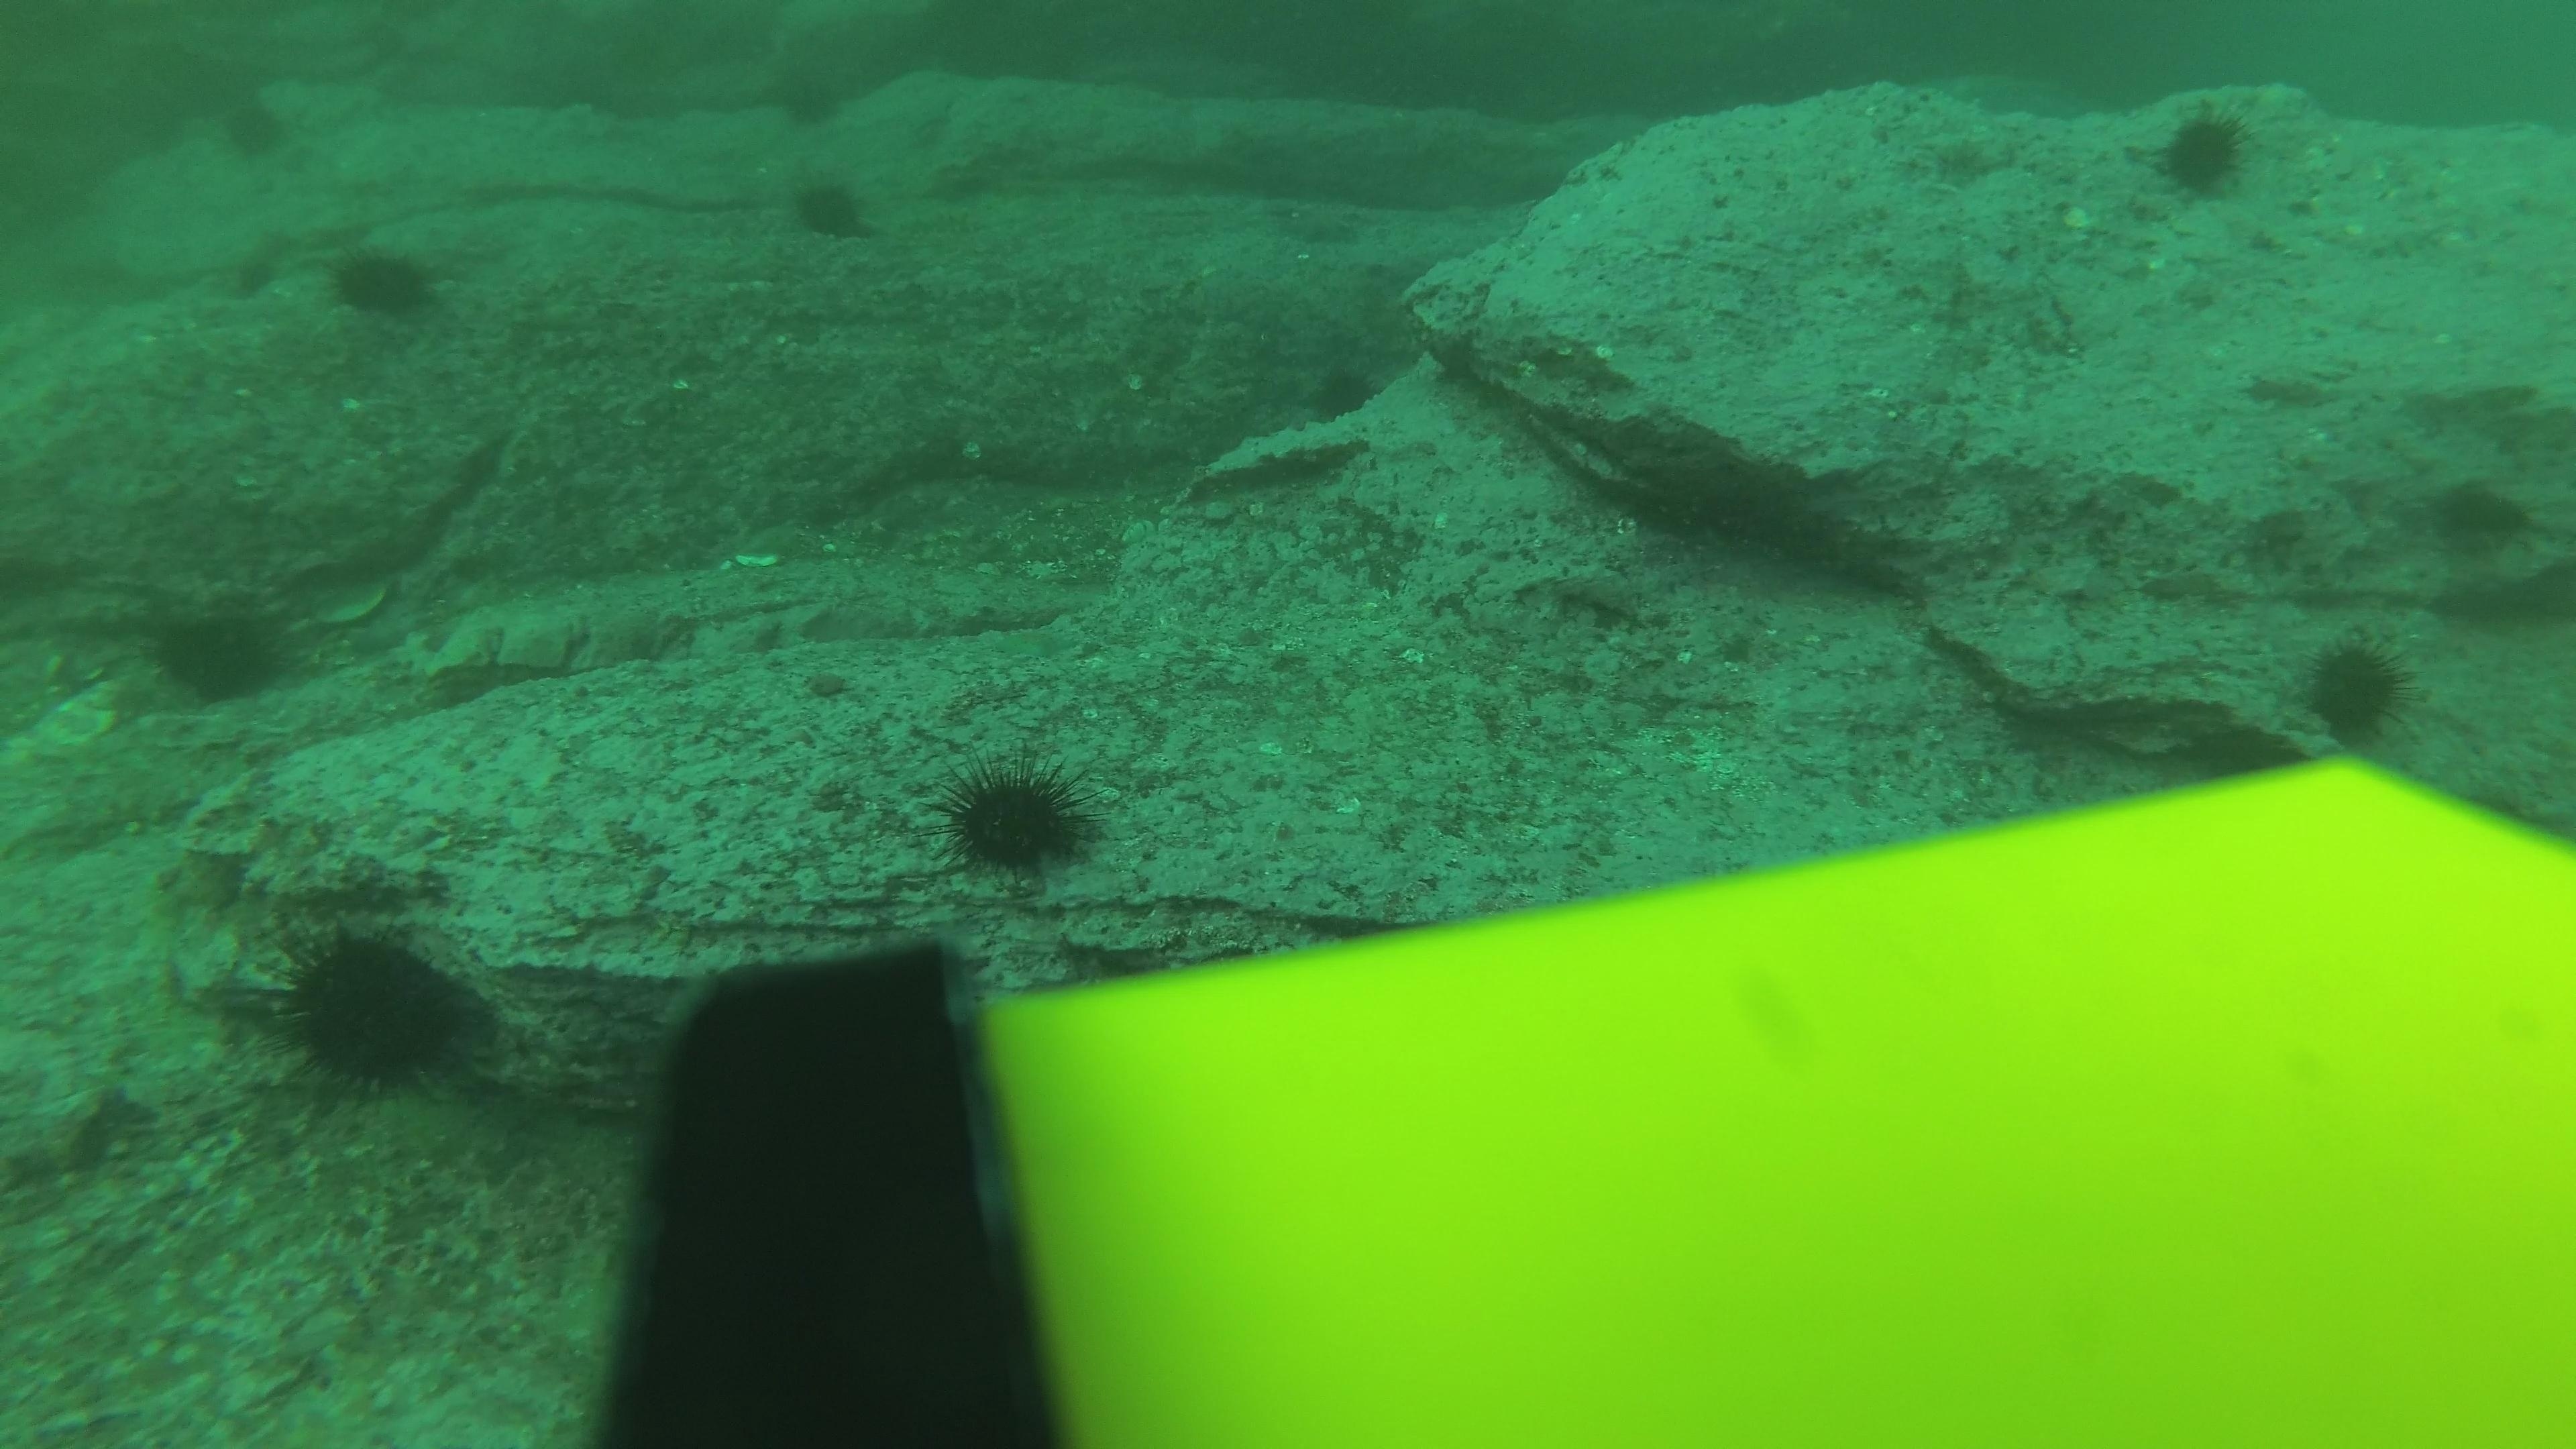echinus: (262, 916, 488, 1099), (936, 754, 1100, 879), (142, 589, 299, 708), (2293, 630, 2419, 747), (2144, 101, 2261, 205), (2420, 472, 2539, 564), (324, 235, 444, 326), (784, 166, 879, 248), (748, 48, 844, 127), (212, 88, 297, 166), (1304, 356, 1384, 425)
